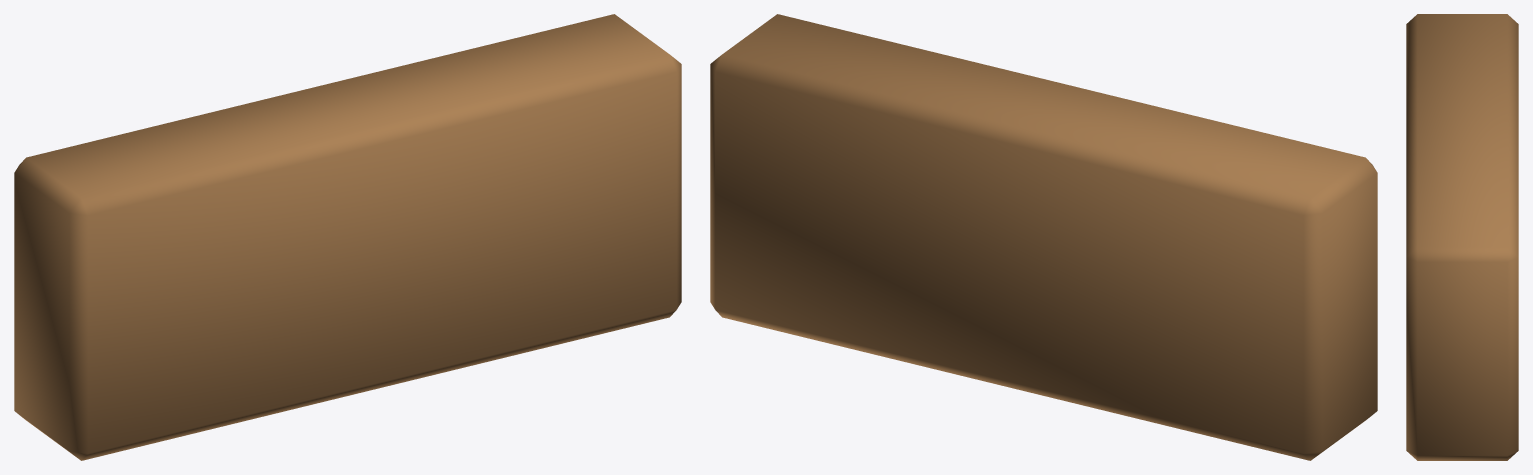
The model's file is button.fg.003.glb.
The picture shows the model from 3 angles, left to right: view 1: azimuth 30°, elevation 25°; view 2: azimuth 150°, elevation 25°; view 3: azimuth 270°, elevation 25°; orthographic projection. The views are drawn at different scales.
Visible parts, largest first — view 1: button.fg.003; view 2: button.fg.003; view 3: button.fg.003.
Part boxes in pixels (bbox=[...]): button.fg.003: bbox=[14, 14, 681, 460]; button.fg.003: bbox=[710, 14, 1377, 460]; button.fg.003: bbox=[1406, 14, 1518, 460].
Size of the model in its own units: 2.56 by 1.05 by 0.5.
